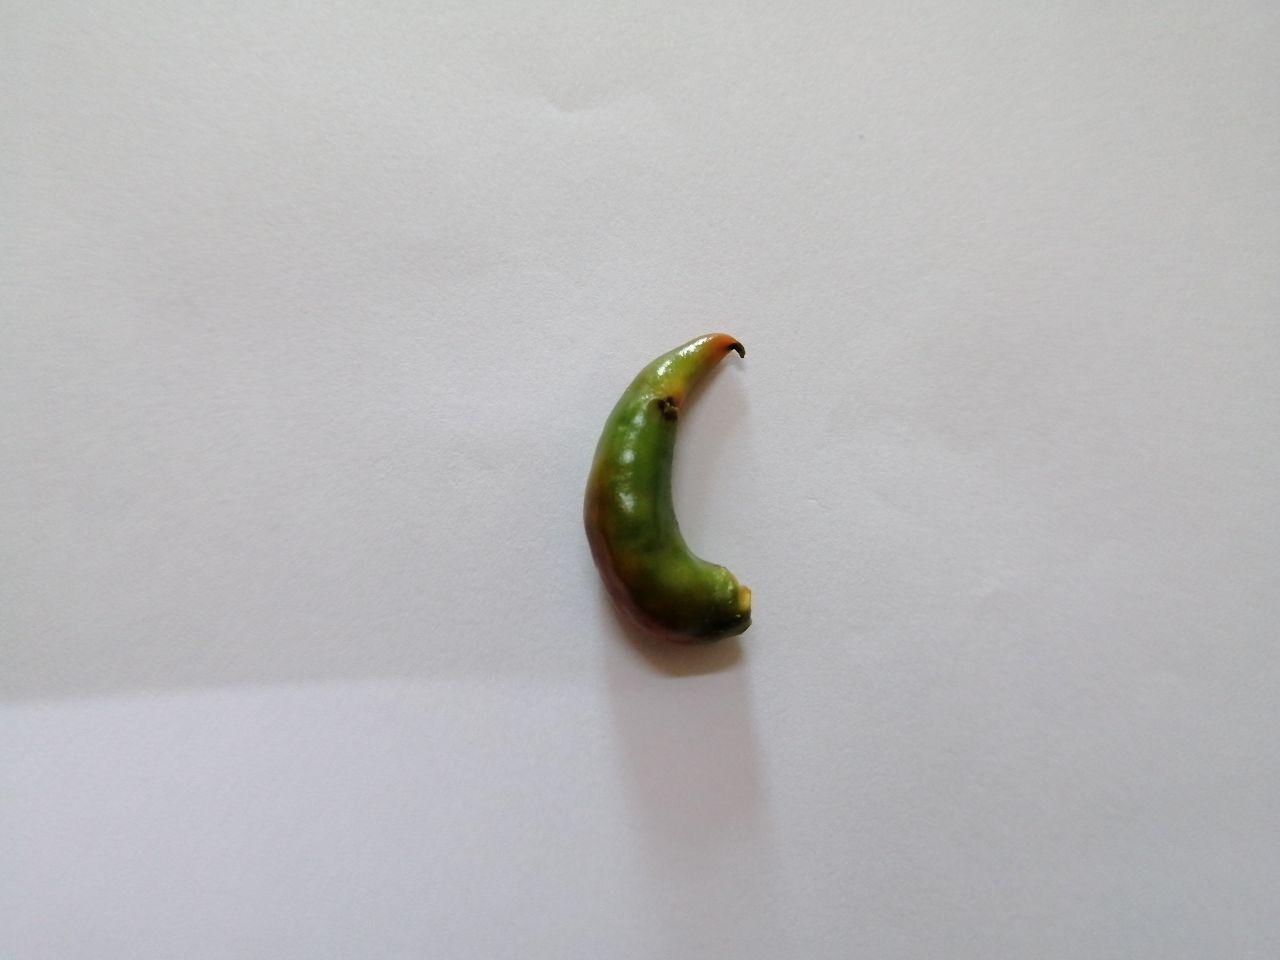lada hijau: (578, 311, 799, 664)
